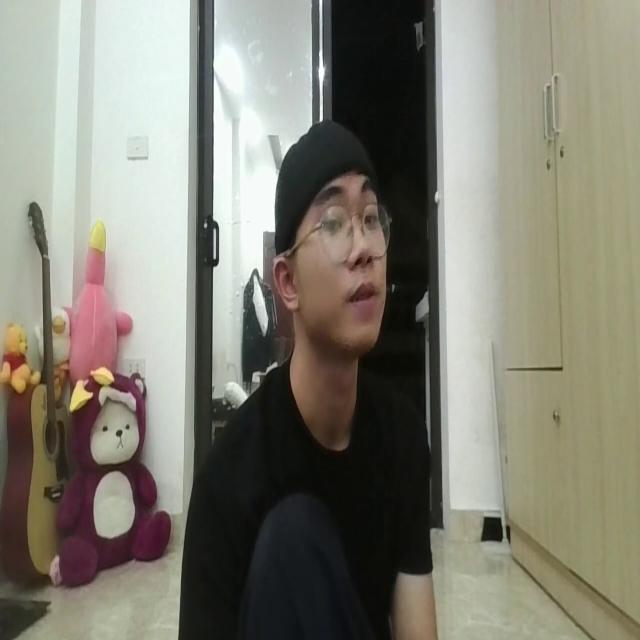student: (185, 115, 436, 640)
